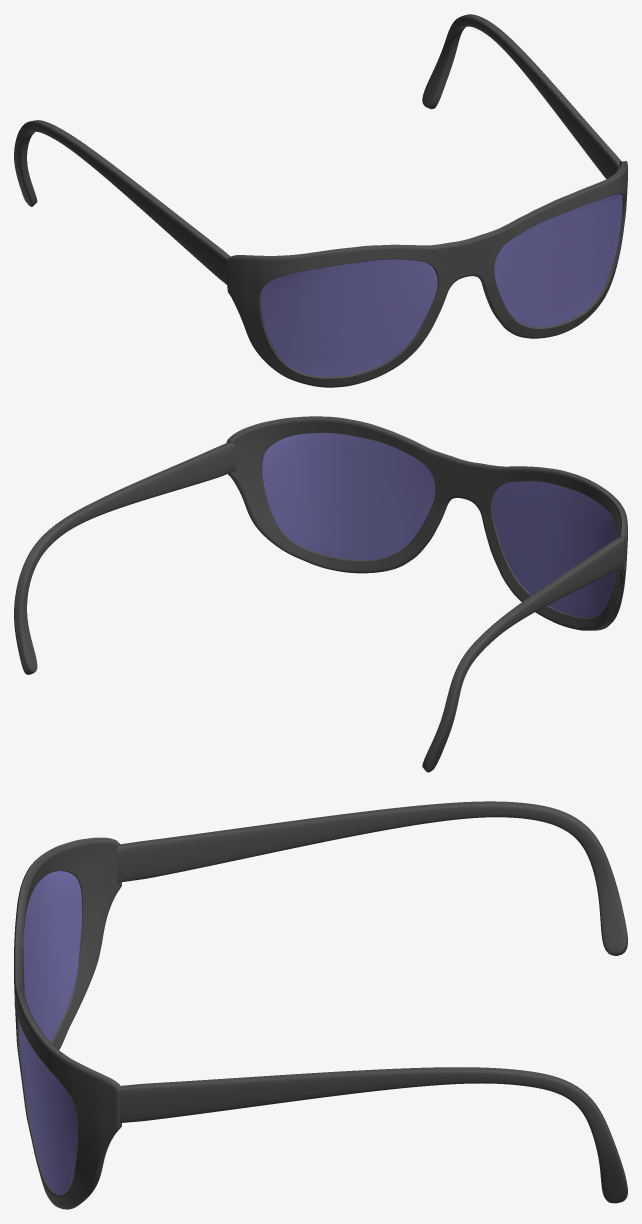
File: clarity_orbit.glb
3 renders of one model, top to bottom at view 1: azimuth 30°, elevation 25°; view 2: azimuth 150°, elevation 25°; view 3: azimuth 270°, elevation 25°, orthographic. The views are drawn at different scales.
Visible parts, largest first — view 1: Object_9, Object_2, Object_3, Object_7, Object_5, Object_6; view 2: Object_9, Object_2, Object_3, Object_5, Object_7, Object_6; view 3: Object_2, Object_9, Object_3, Object_5, Object_7, Object_6.
Boxes of the visible parts, x1,y1,x2,y2 form: Object_9: (261, 194, 622, 376); Object_2: (14, 14, 621, 284); Object_3: (228, 164, 627, 385); Object_7: (257, 191, 625, 380); Object_5: (226, 161, 627, 387); Object_6: (231, 161, 626, 321); Object_9: (262, 433, 618, 617); Object_2: (14, 442, 624, 772); Object_3: (233, 422, 627, 626); Object_5: (227, 418, 627, 630); Object_7: (260, 431, 618, 620); Object_6: (226, 416, 626, 630); Object_2: (117, 801, 627, 1203); Object_9: (18, 871, 81, 1195); Object_3: (14, 844, 118, 1206); Object_5: (14, 840, 121, 1209); Object_7: (14, 868, 85, 1199); Object_6: (15, 837, 121, 1201).
Size of the model in its own units: 0.6564 by 0.2169 by 0.625.
